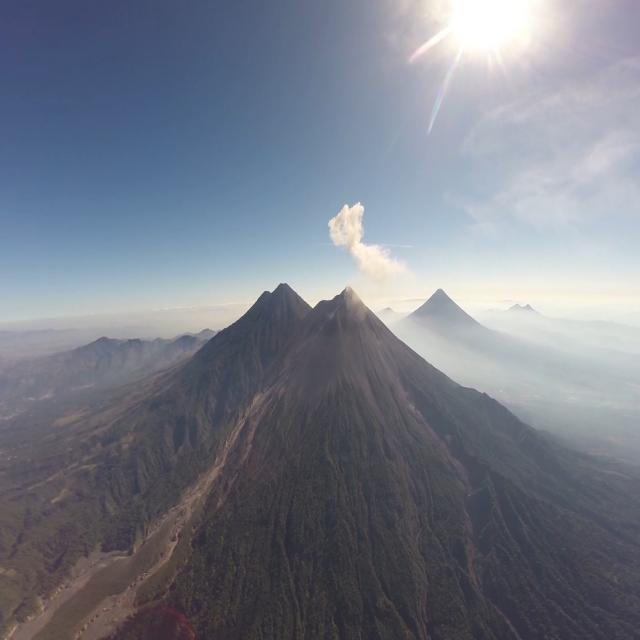Plume: (326, 200, 408, 282)
